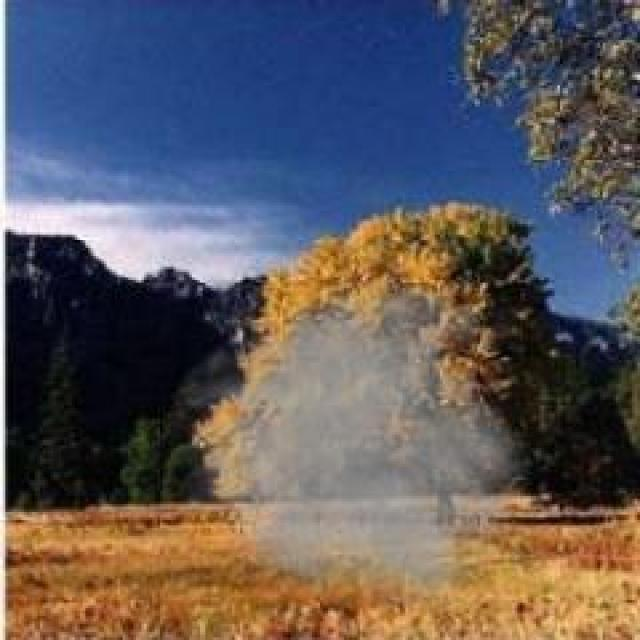Smoke: (198, 263, 528, 595)
